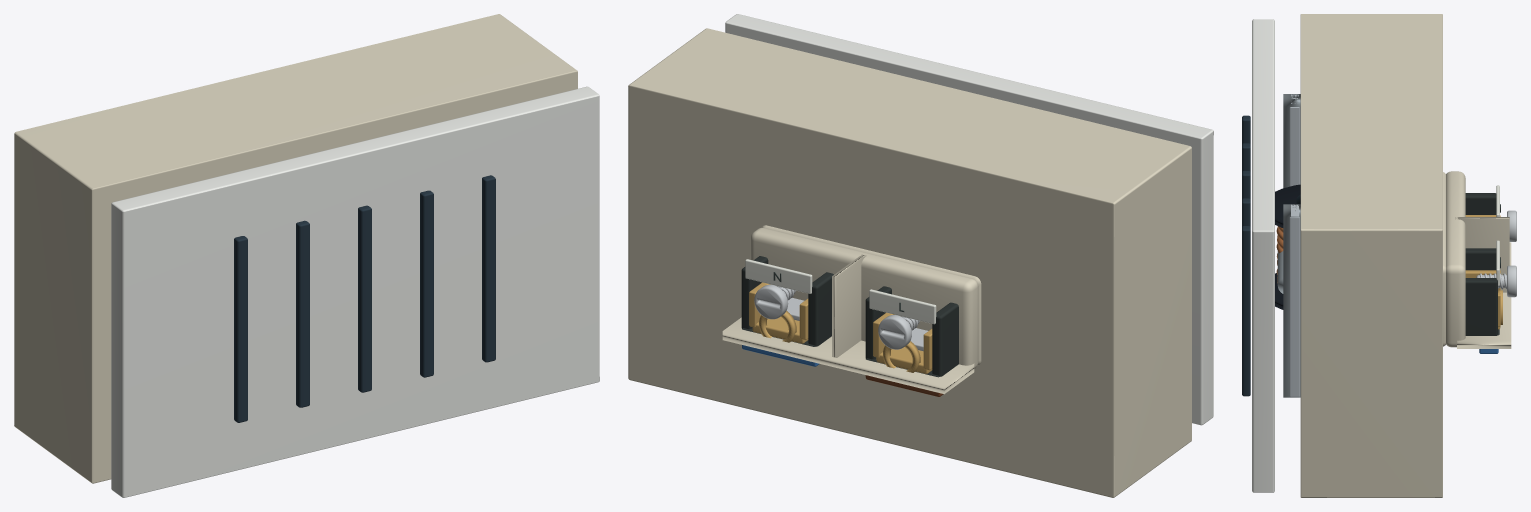
File: chime_default.glb
3 views of the same model, side by side, from view 1: azimuth 30°, elevation 25°; view 2: azimuth 150°, elevation 25°; view 3: azimuth 270°, elevation 25° (orthographic). The views are drawn at different scales.
Visible parts, largest first — view 1: part:cover, part:body, part:cover · Original a463fd81; view 2: part:body, part:cover, part:terminals · Original 5a609f27, detail:terminal-clamp:L · Detail moulded engineering polymer, detail:terminal-clamp:N · Detail moulded engineering polymer, detail:terminal-clamp:L · Detail machined brass, detail:terminal-clamp:N · Detail machined brass, Moulded terminal legend pad, Moulded terminal legend pad.001, detail:terminal-clamp:L · Detail zinc plated fixing, detail:terminal-clamp:N · Detail zinc plated fixing; view 3: part:body, part:cover, part:terminals · Original 5a609f27, detail:alarm-transducer · Detail brushed stainless steel, part:actuator · Original 2a8198d3, detail:terminal-clamp:N · Detail moulded engineering polymer, part:cover · Original a463fd81, part:coil · Original 3ff2d46d, detail:terminal-clamp:L · Detail moulded engineering polymer, detail:terminal-clamp:N · Detail zinc plated fixing, detail:terminal-clamp:N · Detail machined brass.
Part boxes in pixels (x1,y1,x2,y2): part:cover: (111,86,599,497); part:body: (14,14,577,483); part:cover · Original a463fd81: (234,175,495,422); part:body: (628,28,1191,497); part:cover: (725,14,1213,425); part:terminals · Original 5a609f27: (722,225,981,394); detail:terminal-clamp:L · Detail moulded engineering polymer: (865,286,958,377); detail:terminal-clamp:N · Detail moulded engineering polymer: (741,256,833,346); detail:terminal-clamp:L · Detail machined brass: (873,312,932,373); detail:terminal-clamp:N · Detail machined brass: (749,282,808,343); Moulded terminal legend pad: (869,289,936,324); Moulded terminal legend pad.001: (745,259,812,293); detail:terminal-clamp:L · Detail zinc plated fixing: (878,315,928,351); detail:terminal-clamp:N · Detail zinc plated fixing: (754,284,804,320); part:body: (1300,14,1442,497); part:cover: (1252,19,1274,492); part:terminals · Original 5a609f27: (1443,171,1511,348); detail:alarm-transducer · Detail brushed stainless steel: (1289,94,1299,397); part:actuator · Original 2a8198d3: (1277,94,1300,397); detail:terminal-clamp:N · Detail moulded engineering polymer: (1465,248,1499,335); part:cover · Original a463fd81: (1242,115,1250,396); part:coil · Original 3ff2d46d: (1275,184,1300,309); detail:terminal-clamp:L · Detail moulded engineering polymer: (1465,193,1496,214); detail:terminal-clamp:N · Detail zinc plated fixing: (1476,265,1516,297); detail:terminal-clamp:N · Detail machined brass: (1465,270,1502,329).
Bounding box in the file's own units: 0.8462 × 0.4903 × 0.4538.
